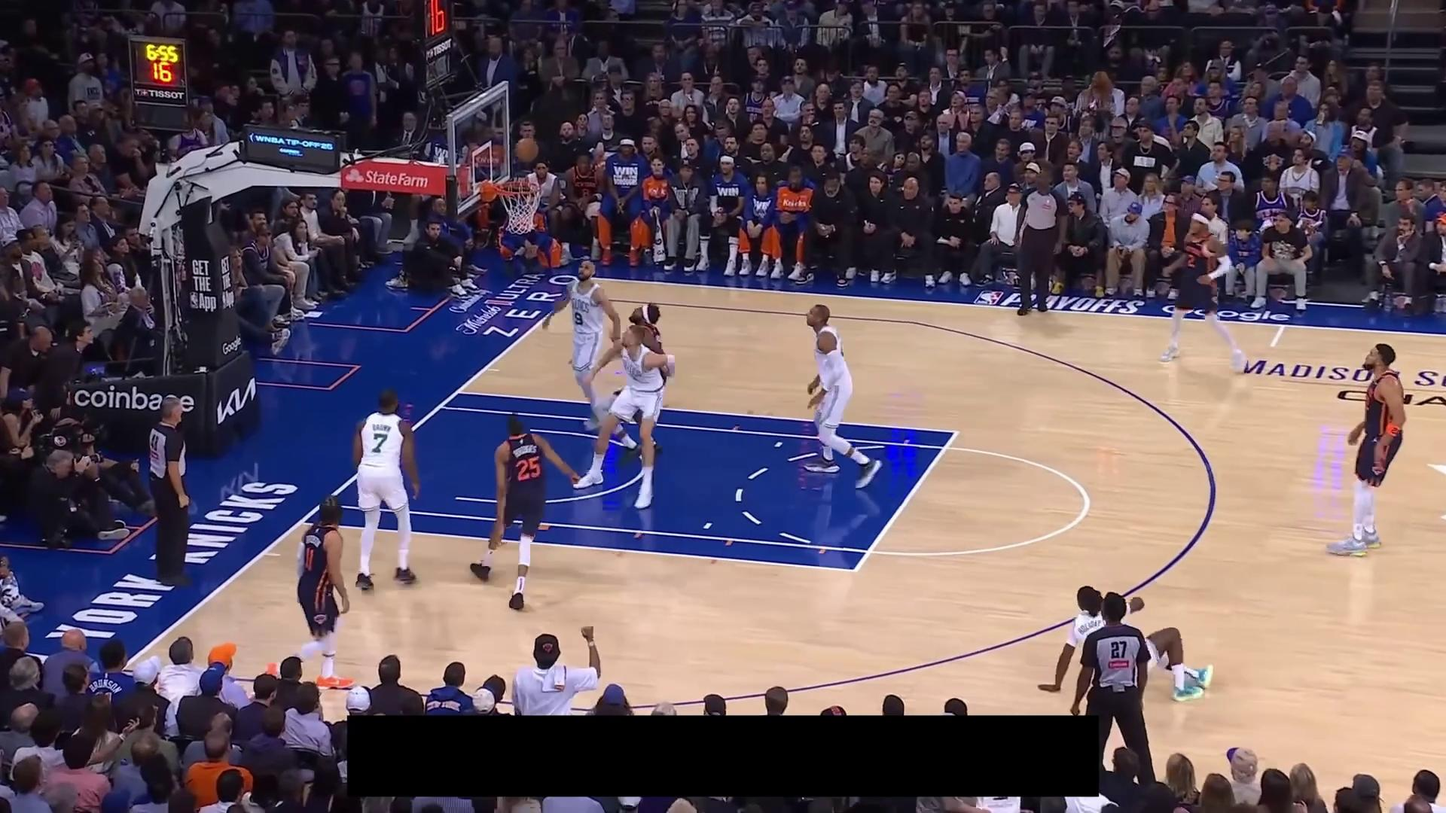ball: (515, 138, 538, 163)
number: (515, 455, 542, 482), (371, 432, 389, 453), (302, 546, 315, 573), (572, 310, 584, 327), (1185, 252, 1196, 268)
player: (468, 409, 581, 612), (1038, 585, 1214, 702), (573, 322, 676, 510), (1325, 341, 1409, 558), (265, 492, 357, 690), (798, 302, 883, 491), (1157, 208, 1251, 376), (349, 384, 423, 593), (541, 260, 622, 431), (593, 303, 670, 467)
referee: (1071, 591, 1157, 786), (146, 395, 195, 584), (1012, 165, 1069, 315)
rim: (494, 179, 540, 196)
